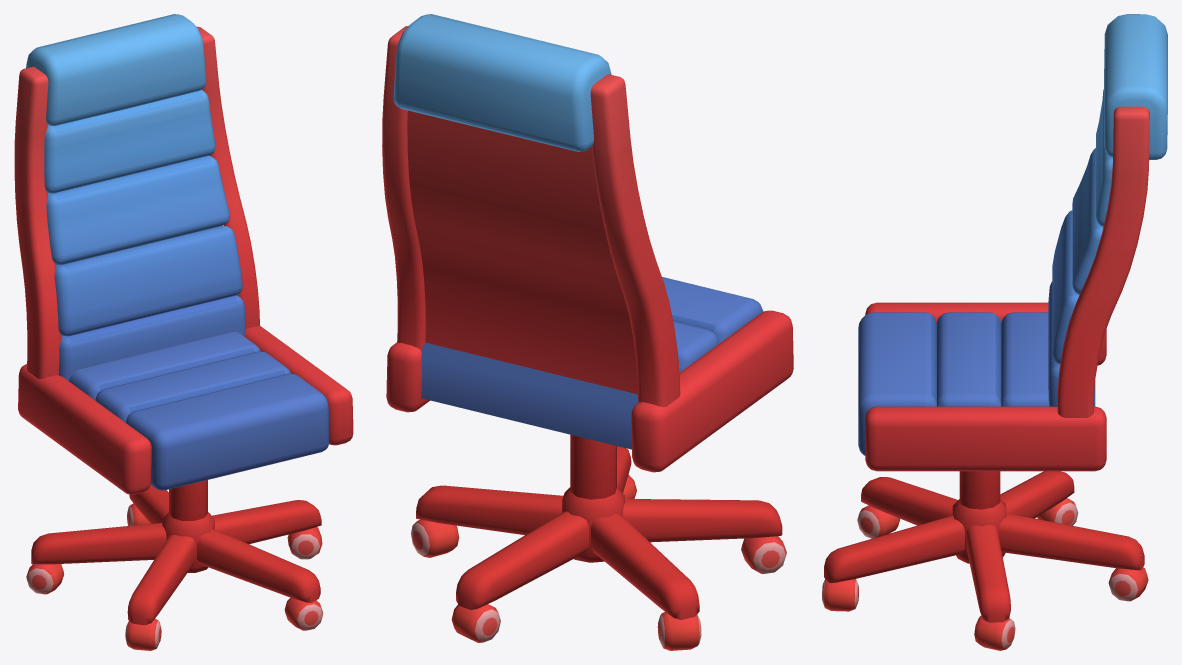
Rendered from Chair_PC_01.glb.
The picture shows the model from 3 angles, left to right: view 1: azimuth 30°, elevation 25°; view 2: azimuth 150°, elevation 25°; view 3: azimuth 270°, elevation 25°; orthographic projection. The views are drawn at different scales.
Visible parts, largest first — view 1: Chair_PC_01; view 2: Chair_PC_01; view 3: Chair_PC_01.
Part boxes in pixels (x1,y1,x2,y2): Chair_PC_01: (14, 14, 353, 650); Chair_PC_01: (382, 14, 793, 650); Chair_PC_01: (822, 14, 1167, 650).
Size of the model in its own units: 0.7197 by 1.3 by 0.7663.
Materials: 1 (1 with a texture image).
